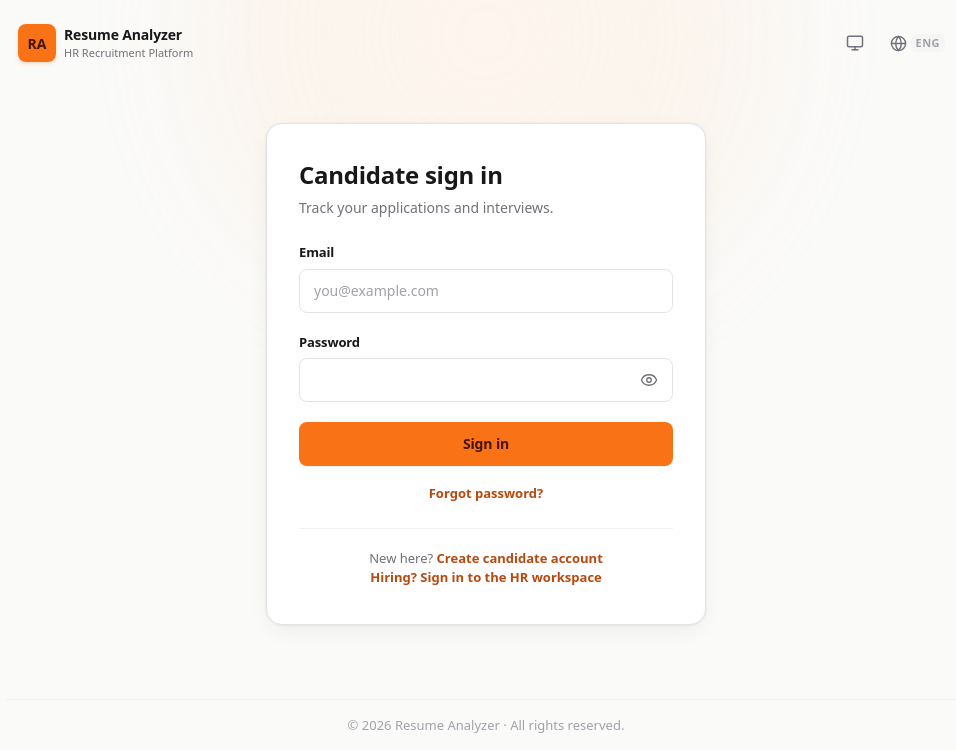
Test: Candidate sign-in › shows the server's message for wrong credentials
In the field labelled "Email": [486, 291] box 299,269 -> 673,313, type "jane@example.com"
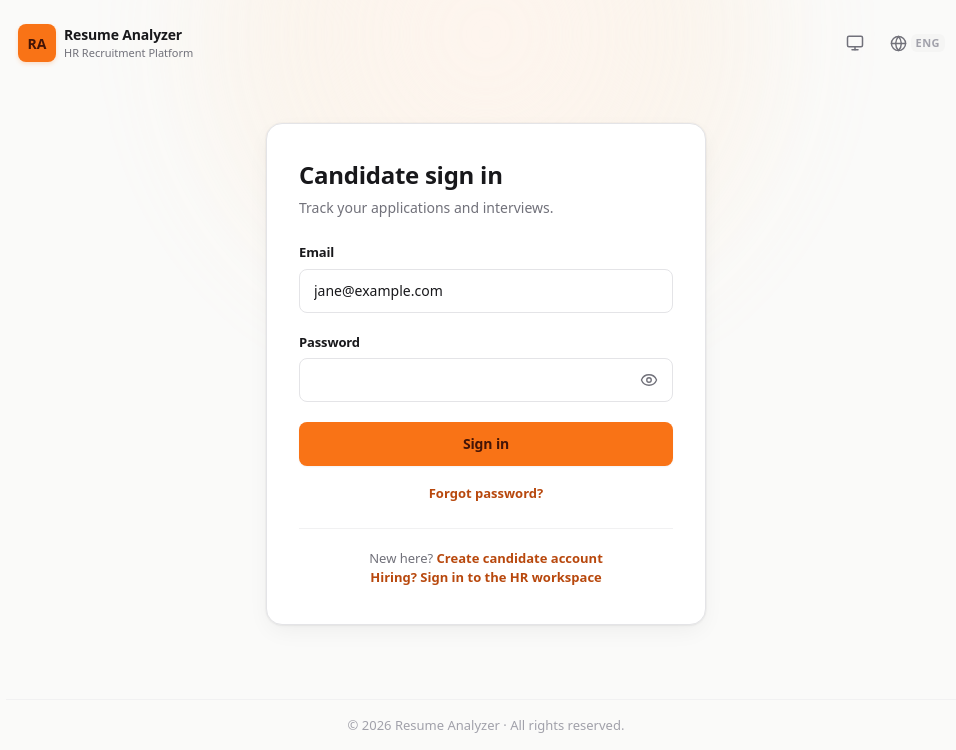
In the password field labelled "Password": [486, 380] box 299,358 -> 673,402, type "wrong"
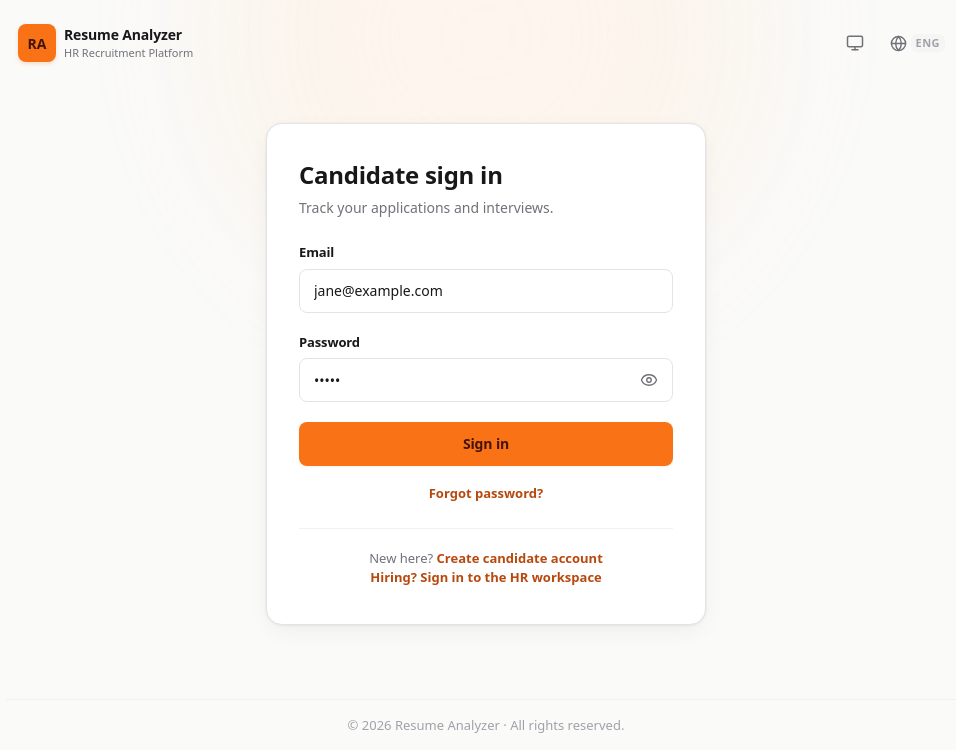
Submit the form, box 299,243 -> 673,466
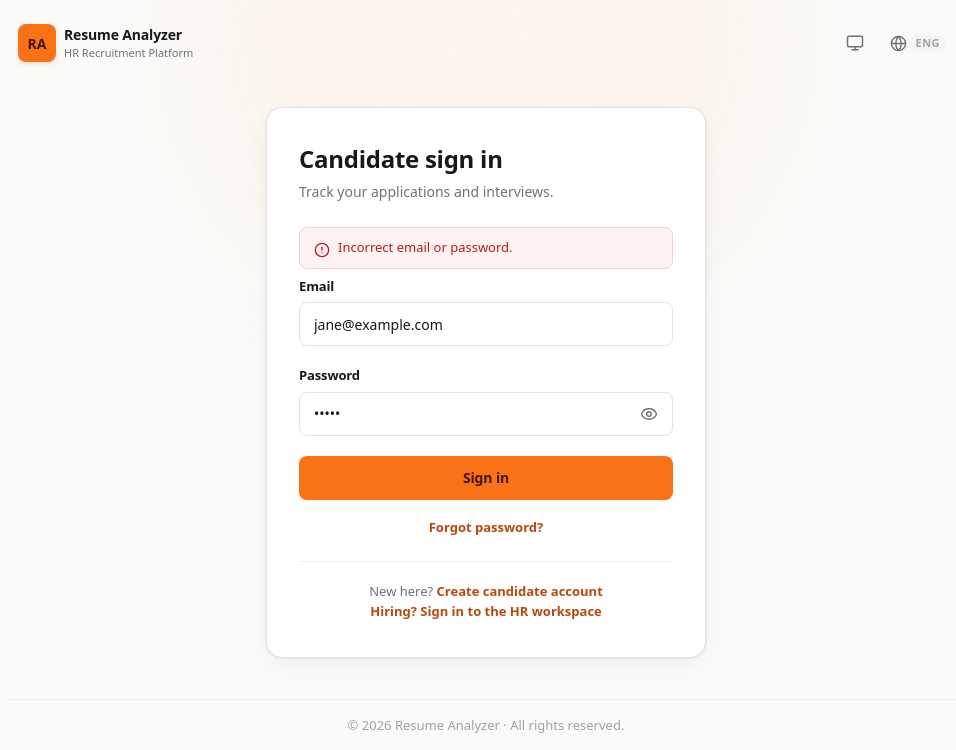
Expected: the text "Incorrect email or password." is shown, 338,238 -> 513,256
